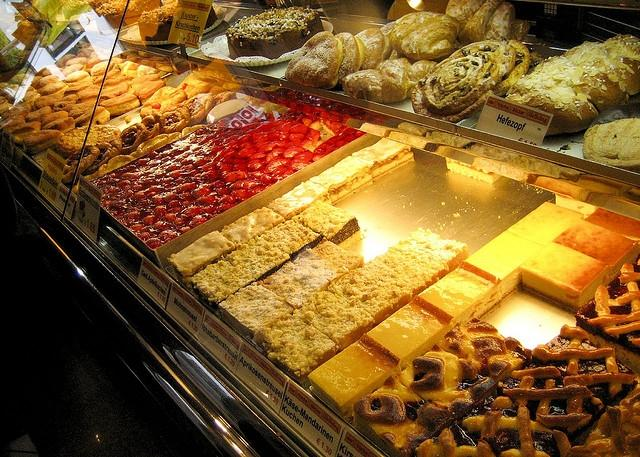strawberry: (304, 128, 322, 147), (230, 179, 262, 189), (282, 146, 306, 159), (158, 230, 180, 244), (292, 150, 314, 164), (180, 206, 202, 218), (234, 147, 256, 159), (176, 182, 196, 194), (264, 152, 282, 165), (193, 186, 212, 198), (247, 158, 264, 171), (153, 204, 168, 218), (195, 196, 218, 205), (224, 171, 239, 184), (257, 143, 276, 153), (270, 166, 288, 176), (290, 124, 308, 134), (218, 194, 236, 204), (284, 140, 304, 149), (203, 180, 224, 188), (300, 116, 314, 128), (252, 133, 268, 143), (292, 162, 312, 170), (236, 134, 252, 144), (162, 183, 179, 192), (137, 177, 156, 185), (208, 138, 224, 147), (231, 162, 247, 171), (278, 121, 291, 132), (206, 170, 220, 180), (333, 140, 347, 150), (200, 206, 217, 214), (216, 186, 231, 195), (122, 189, 135, 199), (166, 206, 182, 214), (257, 124, 273, 132), (162, 213, 176, 222), (268, 131, 282, 140), (152, 195, 164, 205), (246, 128, 261, 136), (149, 185, 164, 193), (202, 164, 216, 172), (132, 220, 146, 228), (121, 202, 135, 210), (168, 150, 184, 157), (180, 164, 195, 171), (216, 163, 230, 170), (178, 227, 192, 234), (314, 150, 331, 155), (290, 120, 302, 127), (108, 178, 120, 185), (205, 151, 217, 158), (346, 134, 356, 142), (146, 191, 157, 198), (190, 146, 202, 152), (336, 133, 348, 139), (180, 201, 192, 207), (138, 200, 148, 206), (96, 180, 106, 186), (194, 150, 204, 156), (193, 173, 201, 179), (144, 166, 152, 170), (130, 182, 134, 184)
